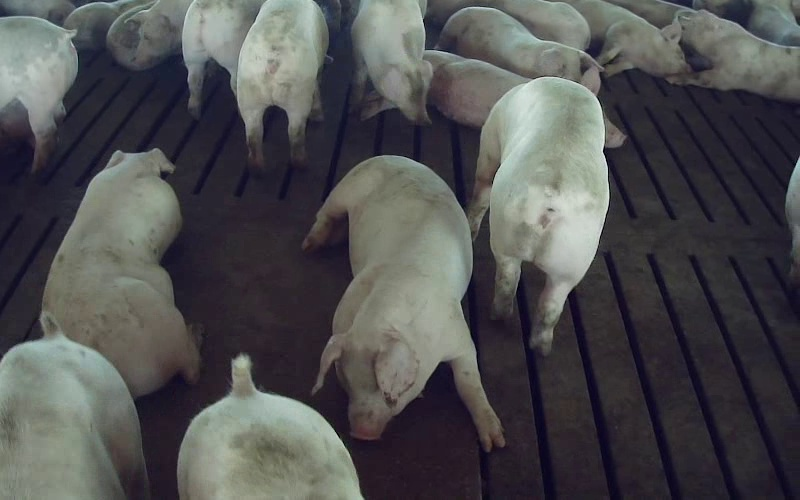pig: (303, 156, 502, 447), (468, 77, 608, 354), (42, 149, 199, 396), (0, 313, 148, 499), (177, 354, 362, 499), (667, 11, 799, 102), (436, 7, 595, 81), (351, 0, 431, 124), (567, 0, 689, 76), (423, 50, 530, 127)
